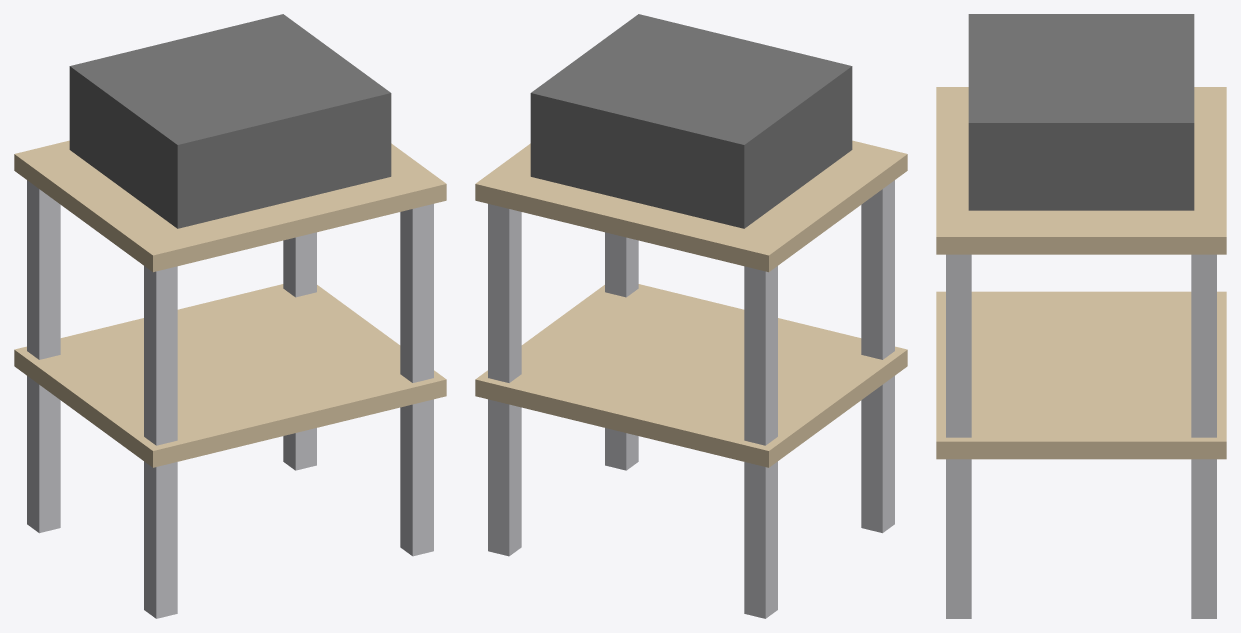
The model's file is printer_stand.glb.
3 renders of one model, left to right at view 1: azimuth 30°, elevation 25°; view 2: azimuth 150°, elevation 25°; view 3: azimuth 270°, elevation 25°, orthographic. The views are drawn at different scales.
Visible parts, largest first — view 1: printer, shelf, legs, top; view 2: printer, shelf, legs, top; view 3: printer, shelf, top, legs.
Boxes of the visible parts, x1=… form: printer: x1=69, y1=14, x2=391, y2=228; shelf: x1=14, y1=284, x2=446, y2=467; legs: x1=27, y1=180, x2=433, y2=618; top: x1=14, y1=140, x2=446, y2=272; printer: x1=530, y1=14, x2=852, y2=228; shelf: x1=475, y1=284, x2=907, y2=467; legs: x1=488, y1=180, x2=894, y2=618; top: x1=475, y1=140, x2=907, y2=272; printer: x1=968, y1=14, x2=1194, y2=210; shelf: x1=936, y1=291, x2=1226, y2=459; top: x1=936, y1=87, x2=1226, y2=254; legs: x1=946, y1=254, x2=1216, y2=618.
Size of the model in its own units: 0.55 by 0.82 by 0.45.
